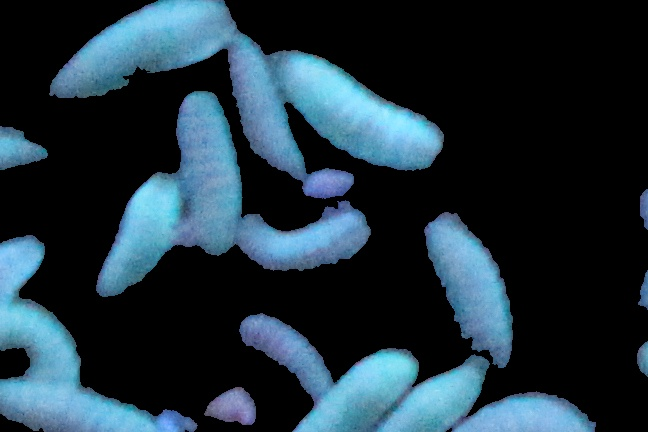larvae: (270, 49, 443, 173), (53, 1, 234, 98), (221, 36, 304, 187), (423, 223, 509, 367), (299, 345, 422, 432), (176, 91, 237, 263), (97, 175, 176, 300), (237, 213, 370, 281), (380, 356, 489, 432), (3, 379, 152, 432), (241, 317, 330, 401), (460, 390, 595, 432), (1, 309, 78, 380), (1, 233, 43, 311)
